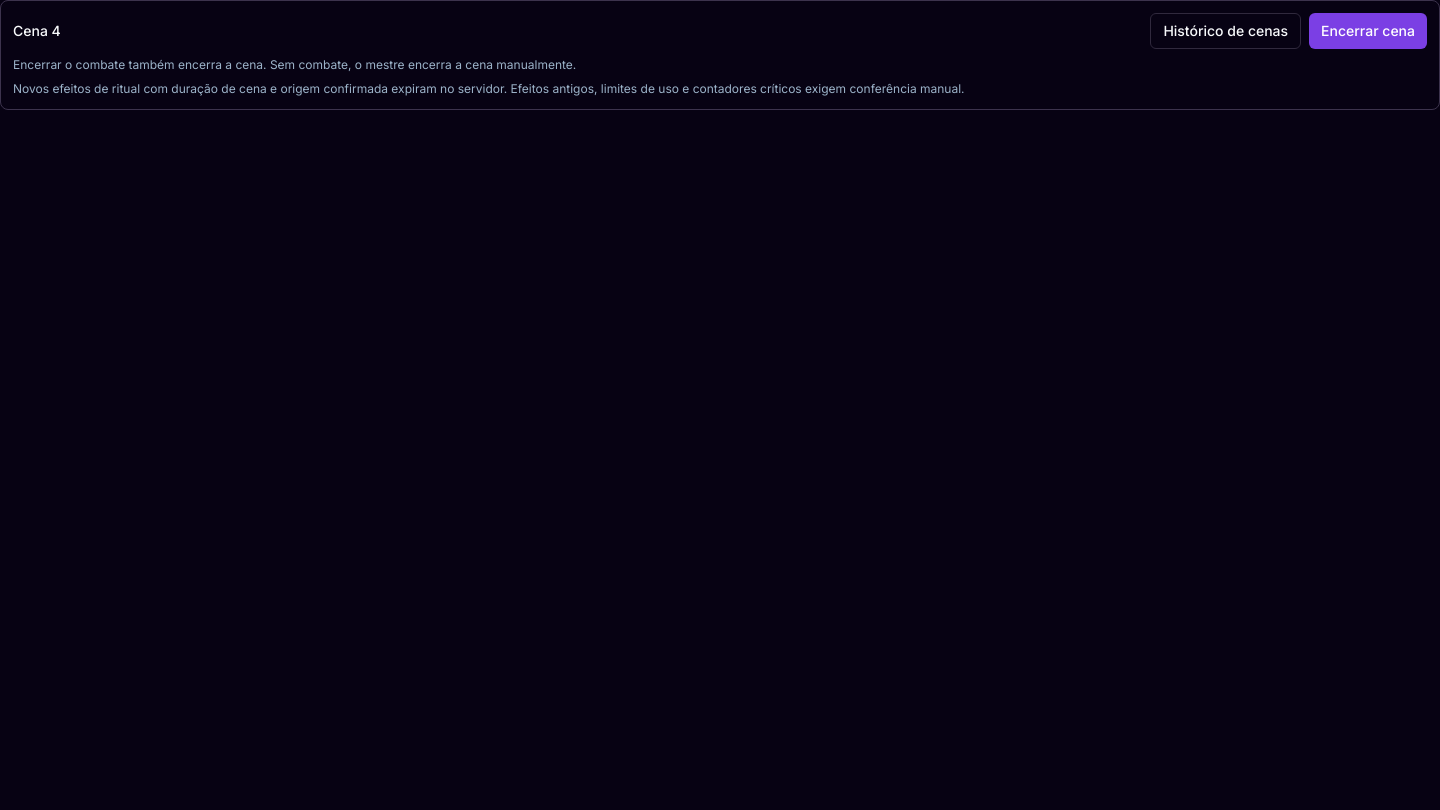
it: Cena, avisos e histórico visíveis › cancelar a confirmação não grava nada
This screenshot has width=1440, height=810.
Later steps or results of the test are not shown.
Click the button "Encerrar cena" at (1368, 31), box [1309,13,1427,49]
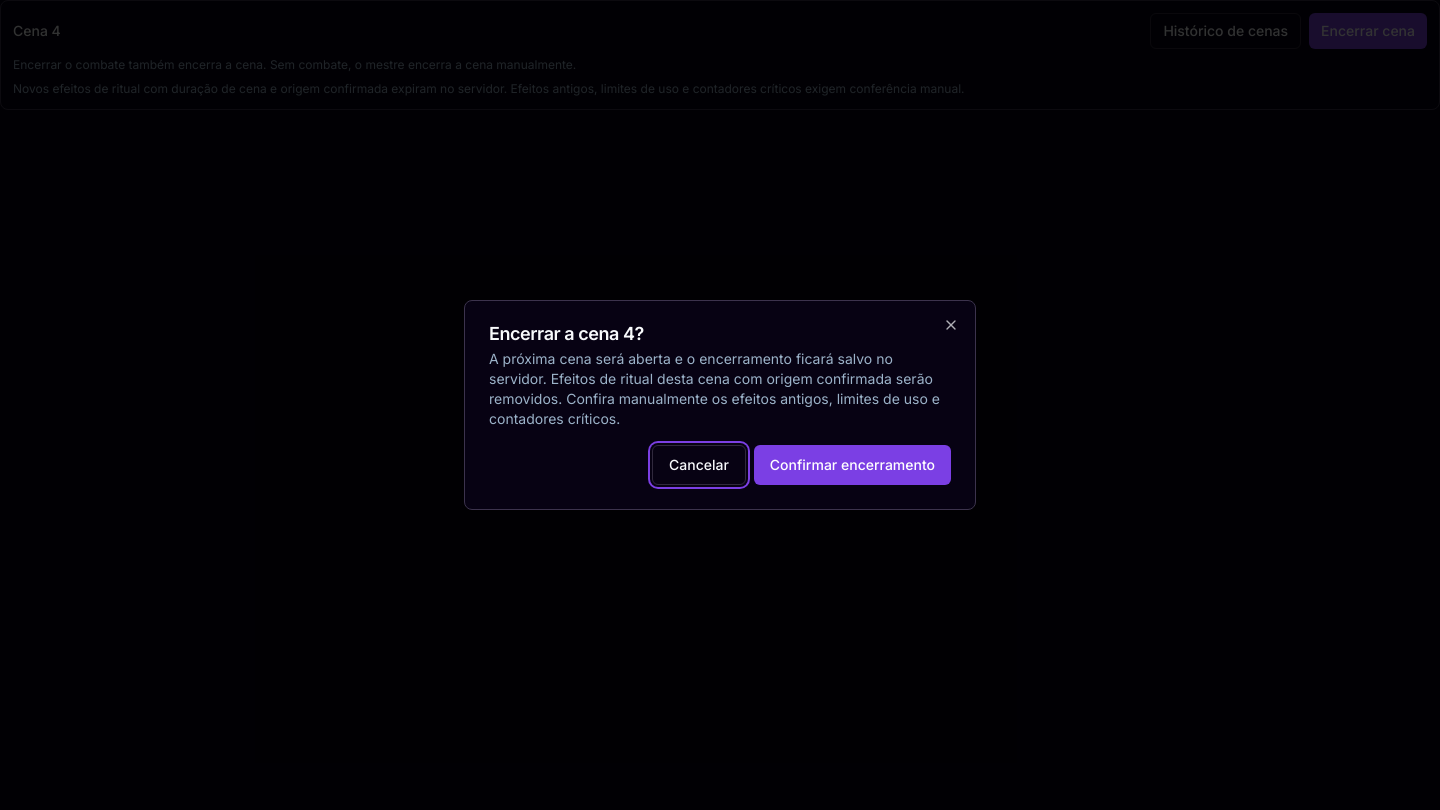
Result: the dialog "Encerrar a cena 4?" is shown at [464,300,976,510]
